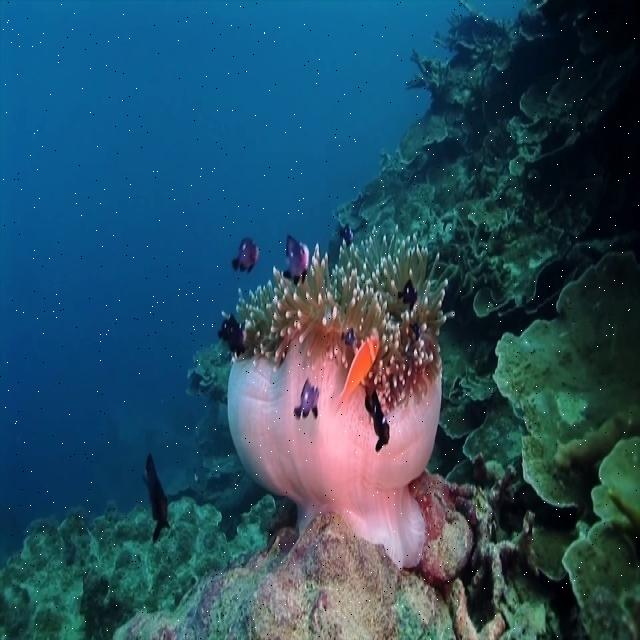fish: (144, 453, 170, 544), (220, 310, 248, 353), (230, 236, 258, 271)
reefs: (227, 224, 454, 571), (112, 471, 562, 639), (0, 494, 293, 639), (492, 251, 639, 506), (562, 437, 639, 639)
